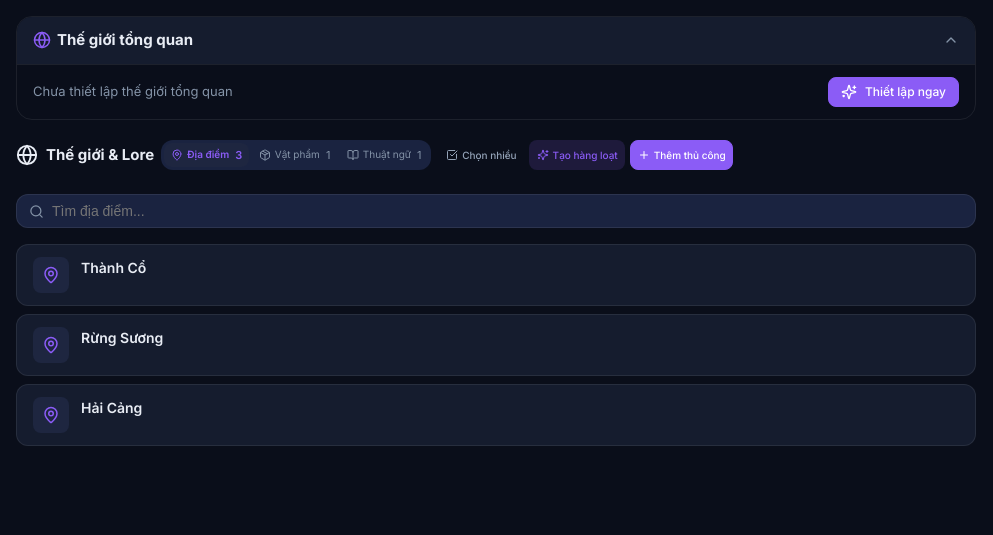
Test: phase10 WorldLore bulk deletion › selects and deletes multiple locations with the location bulk API
The width and height of the screenshot is (993, 535).
Click the button "Chọn nhiều".
click(481, 155)  # box x1=438 y1=140 x2=524 y2=170
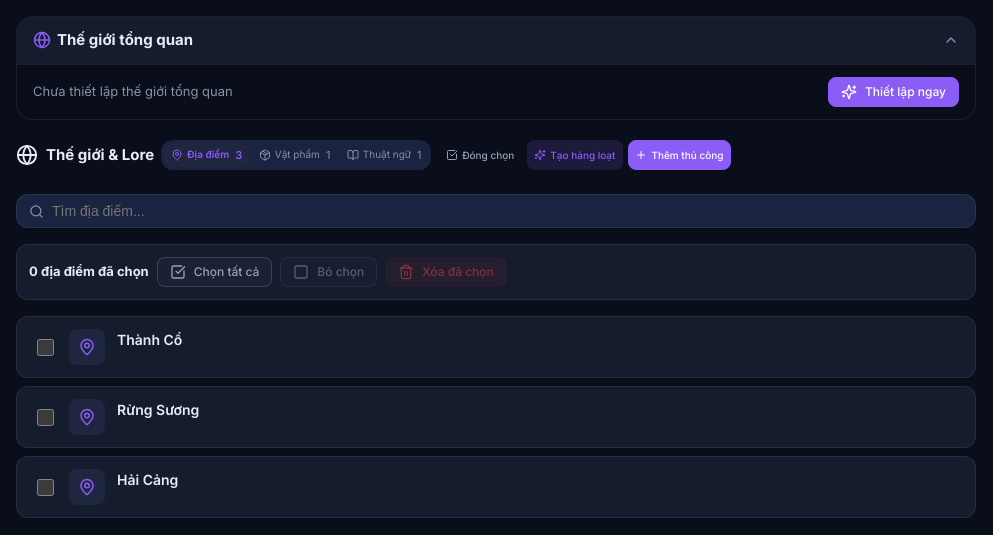
Check: the number of buttons with class "bulk-selection-action" is 2, box x1=157 y1=257 x2=272 y2=287; x1=280 y1=257 x2=377 y2=287
Click the checkbox named "Chọn Thành Cổ".
click(45, 347)  # box x1=36 y1=338 x2=54 y2=356
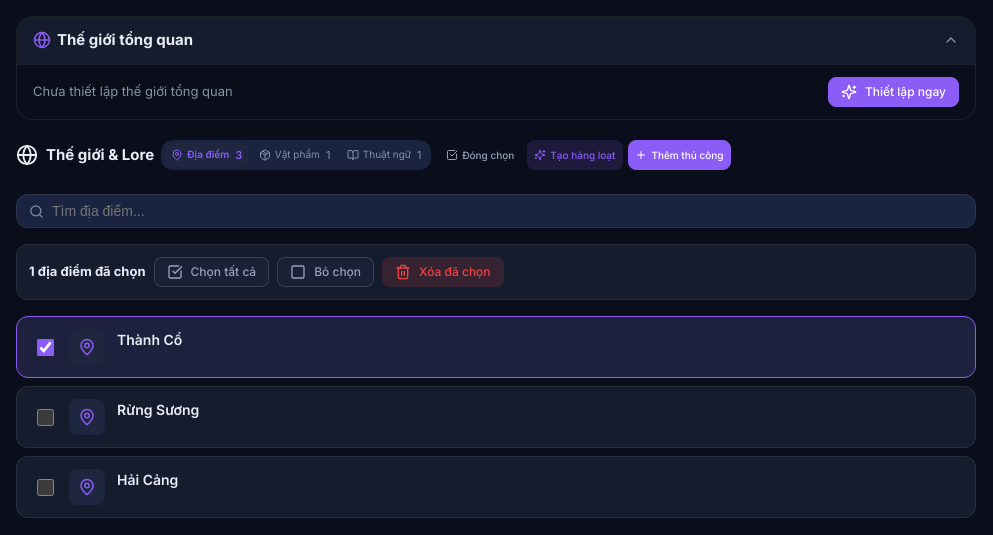
Click the checkbox named "Chọn Hải Cảng".
click(45, 487)  # box x1=36 y1=478 x2=54 y2=496
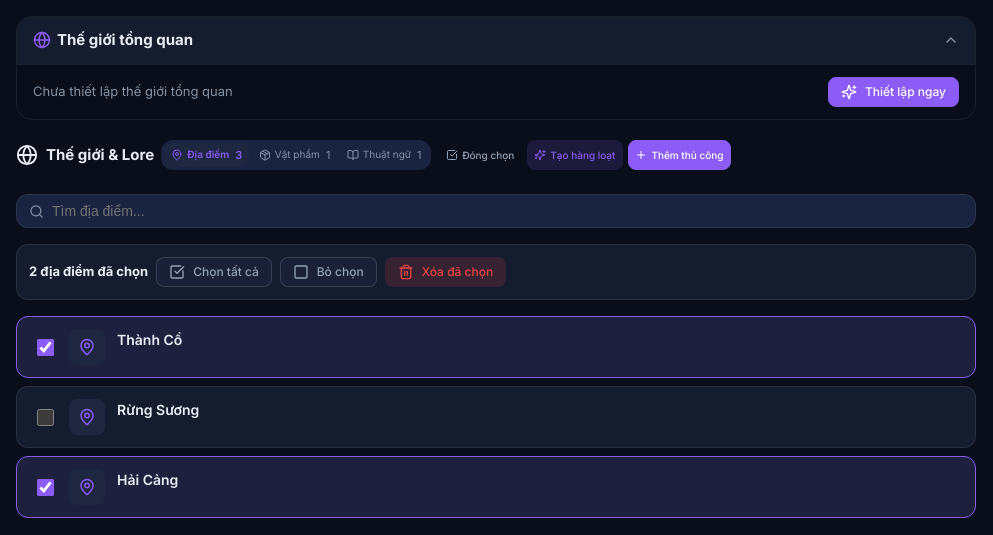
Check: the button "Xóa đã chọn" is shown
Check: the text "2 địa điểm đã chọn" is shown, box x1=29 y1=262 x2=148 y2=282
Click the button "Xóa đã chọn".
click(445, 272)  # box x1=385 y1=257 x2=506 y2=287
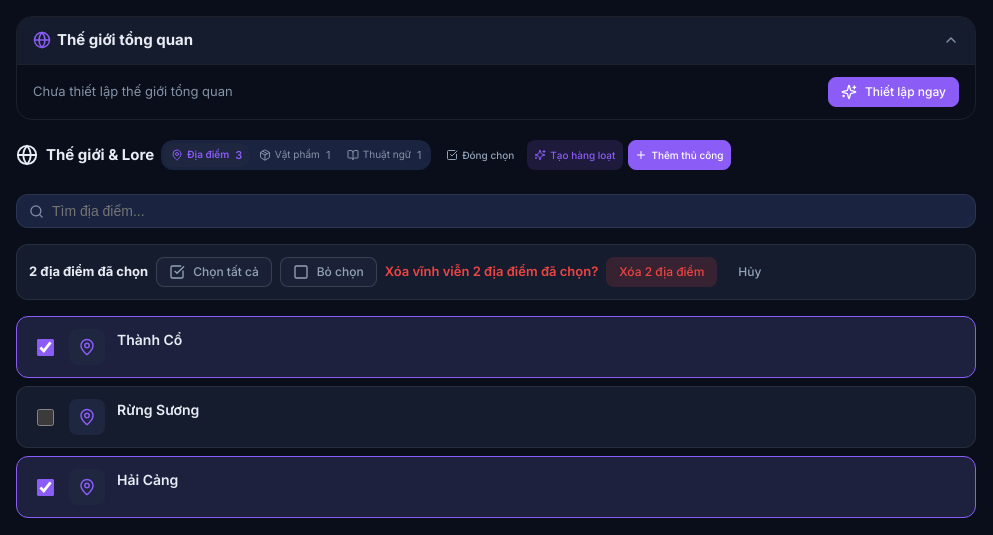
Check: the text "Xóa vĩnh viễn 2 địa điểm đã chọn?" is shown, box x1=385 y1=262 x2=598 y2=282
Check: the button "Xóa 2 địa điểm" is shown
Click the button "Xóa 2 địa điểm".
click(662, 272)  # box x1=606 y1=257 x2=717 y2=287
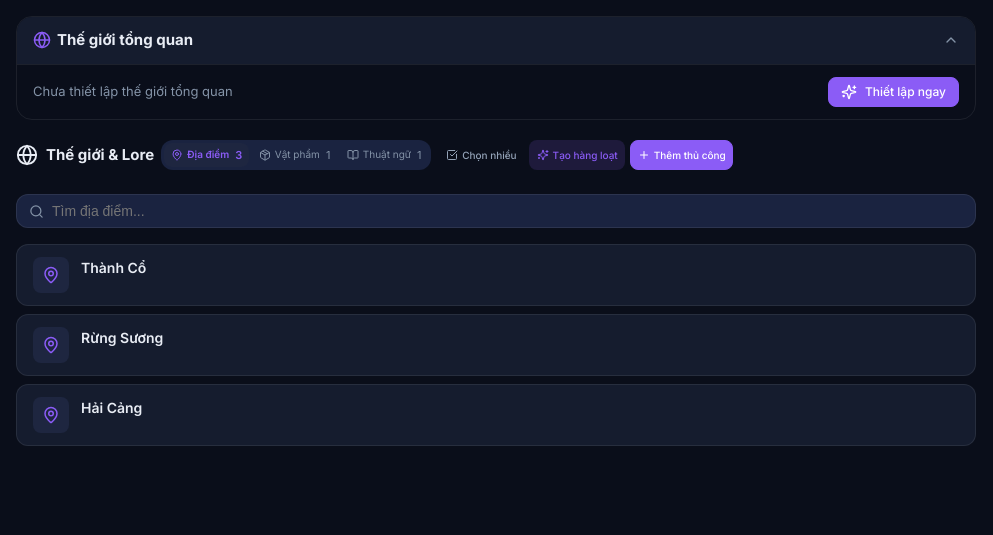
Check: the text "2 địa điểm đã chọn" is gone
